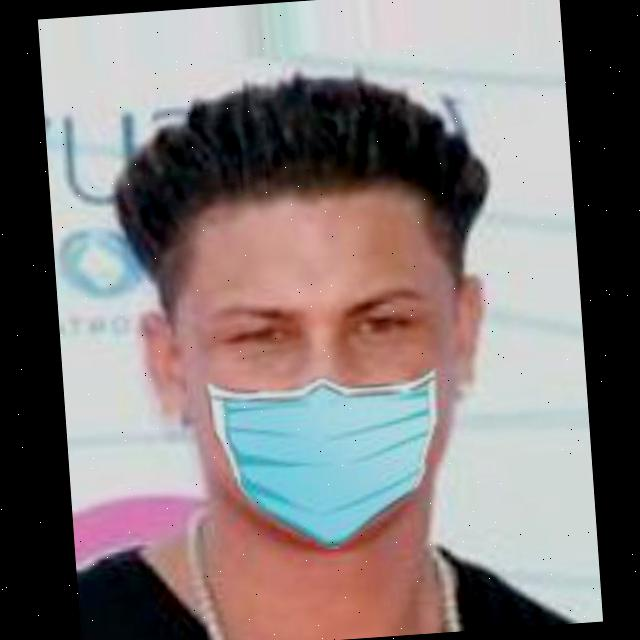suspicion: (90, 96, 528, 568)
